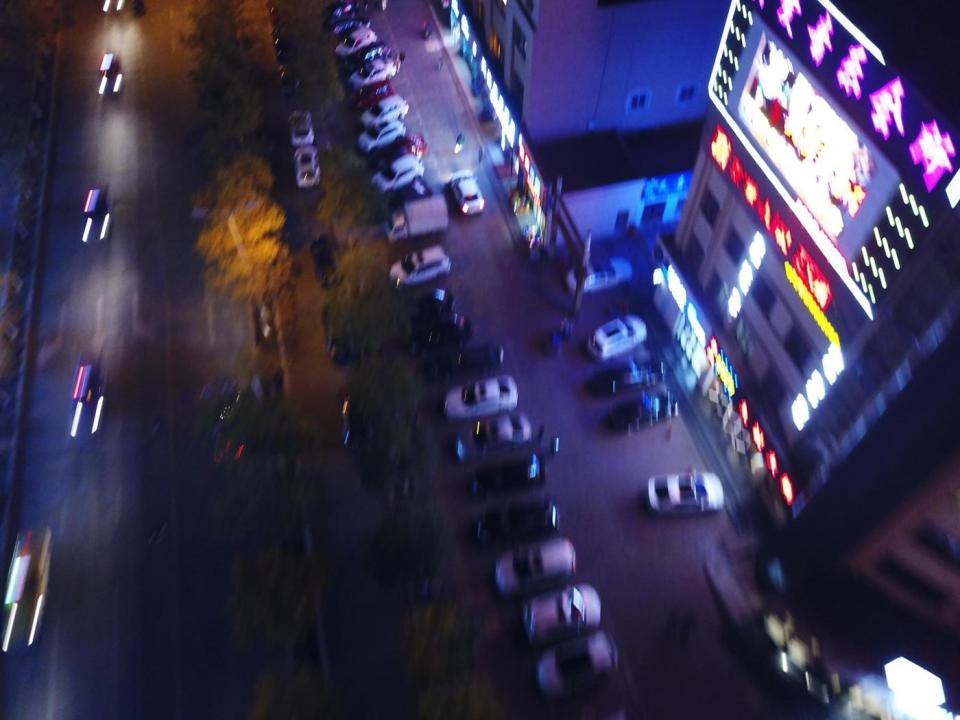car: (535, 628, 618, 697), (6, 528, 46, 653), (494, 536, 575, 595), (523, 583, 600, 644), (474, 501, 559, 545), (455, 413, 530, 461), (467, 455, 545, 501), (646, 468, 724, 514), (444, 374, 517, 420), (66, 351, 101, 437), (337, 390, 383, 454), (386, 243, 450, 288), (429, 346, 503, 384), (609, 390, 679, 430), (565, 255, 631, 297), (586, 313, 647, 358), (588, 360, 666, 393), (404, 318, 472, 350), (78, 184, 110, 245), (372, 156, 422, 194), (322, 302, 352, 362), (394, 288, 454, 318), (310, 233, 341, 290), (374, 134, 427, 166), (356, 119, 407, 150), (450, 170, 485, 215), (349, 58, 396, 90), (342, 42, 390, 69), (350, 80, 394, 109), (98, 49, 122, 94), (294, 146, 320, 187), (325, 17, 369, 36), (290, 110, 313, 146), (319, 2, 354, 25), (280, 66, 299, 96), (274, 38, 294, 60)
truck: (383, 195, 447, 243)
van: (360, 96, 408, 126), (333, 27, 376, 57)
